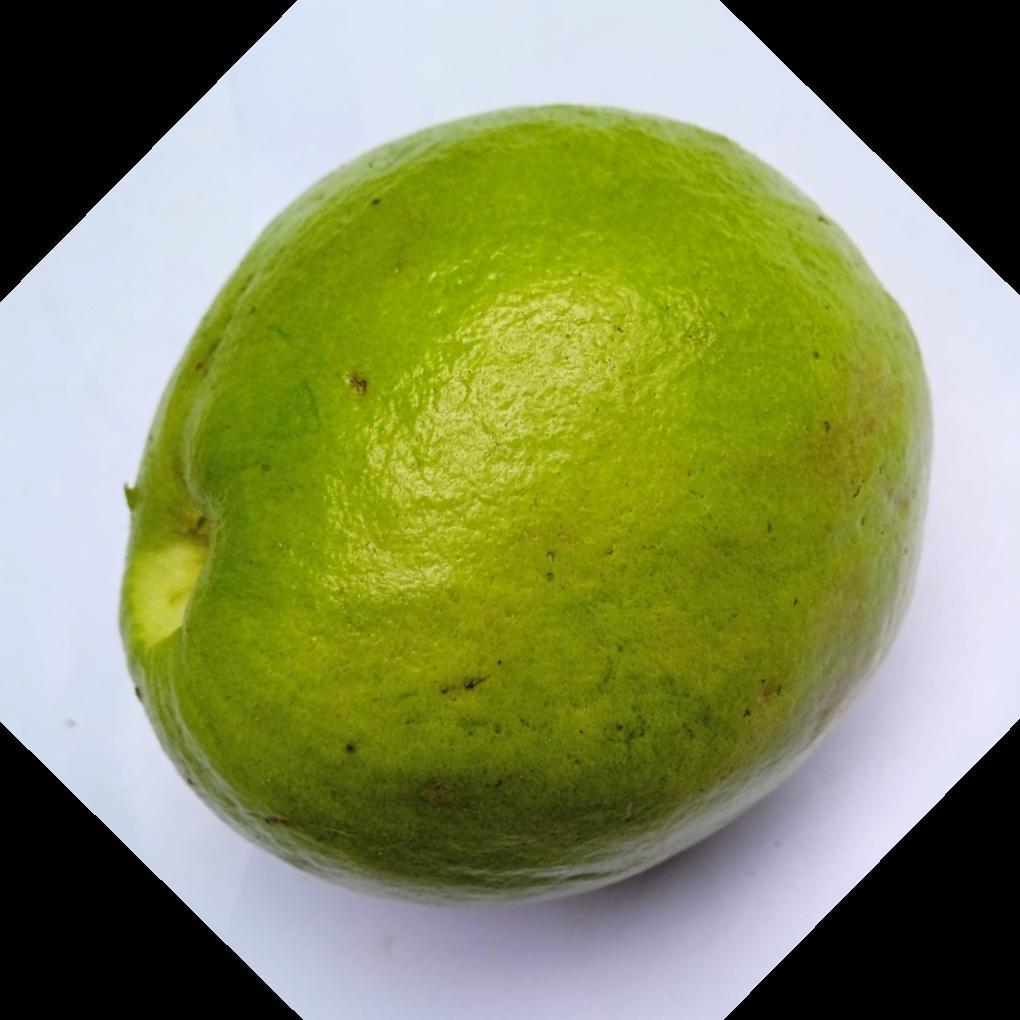FreshGuava: (116, 104, 934, 909)
